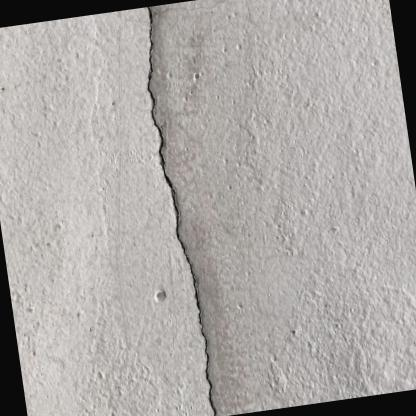crack: (146, 6, 216, 416)
